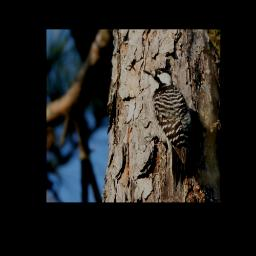Woodpecker: (142, 67, 192, 192)
